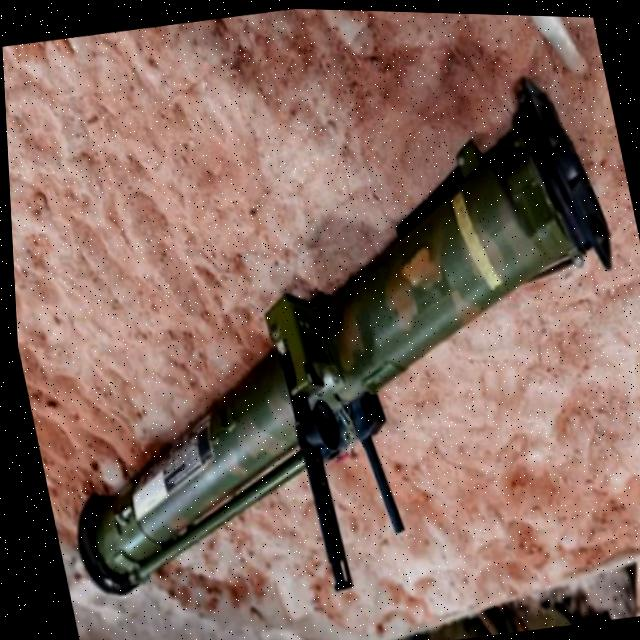rocket: (1, 30, 640, 640)
